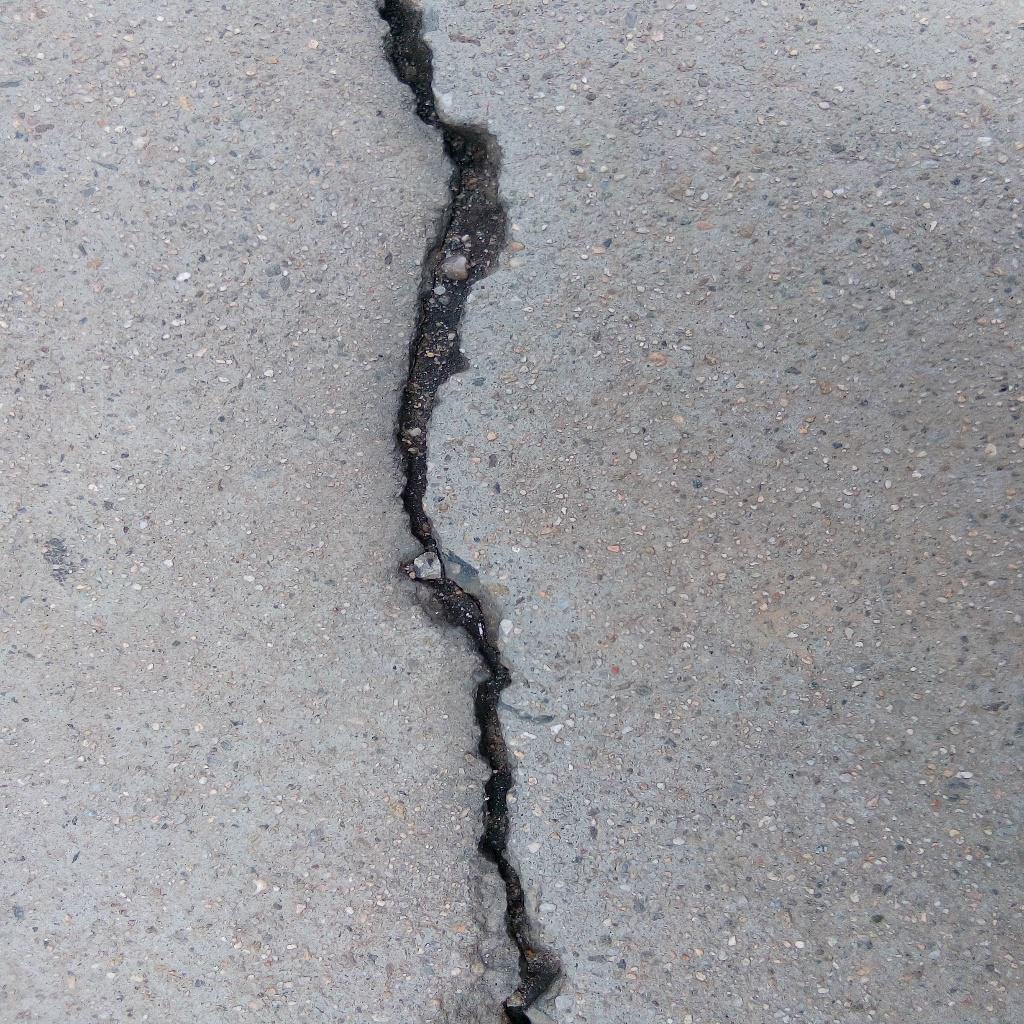Crack: (374, 1, 567, 1024)
